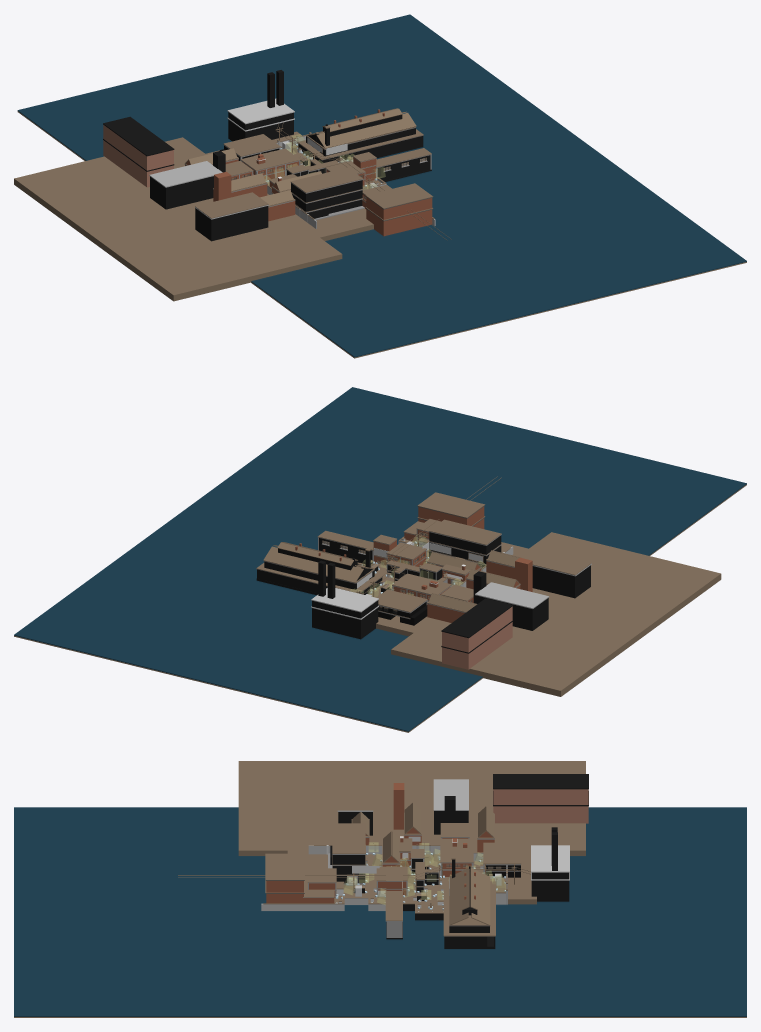
File: Freight.obj
The picture shows the model from 3 angles, top to bottom: view 1: azimuth 30°, elevation 25°; view 2: azimuth 150°, elevation 25°; view 3: azimuth 270°, elevation 25°; orthographic projection. The views are drawn at different scales.
Bounding box in the file's own units: 2077 × 378 × 2577.
